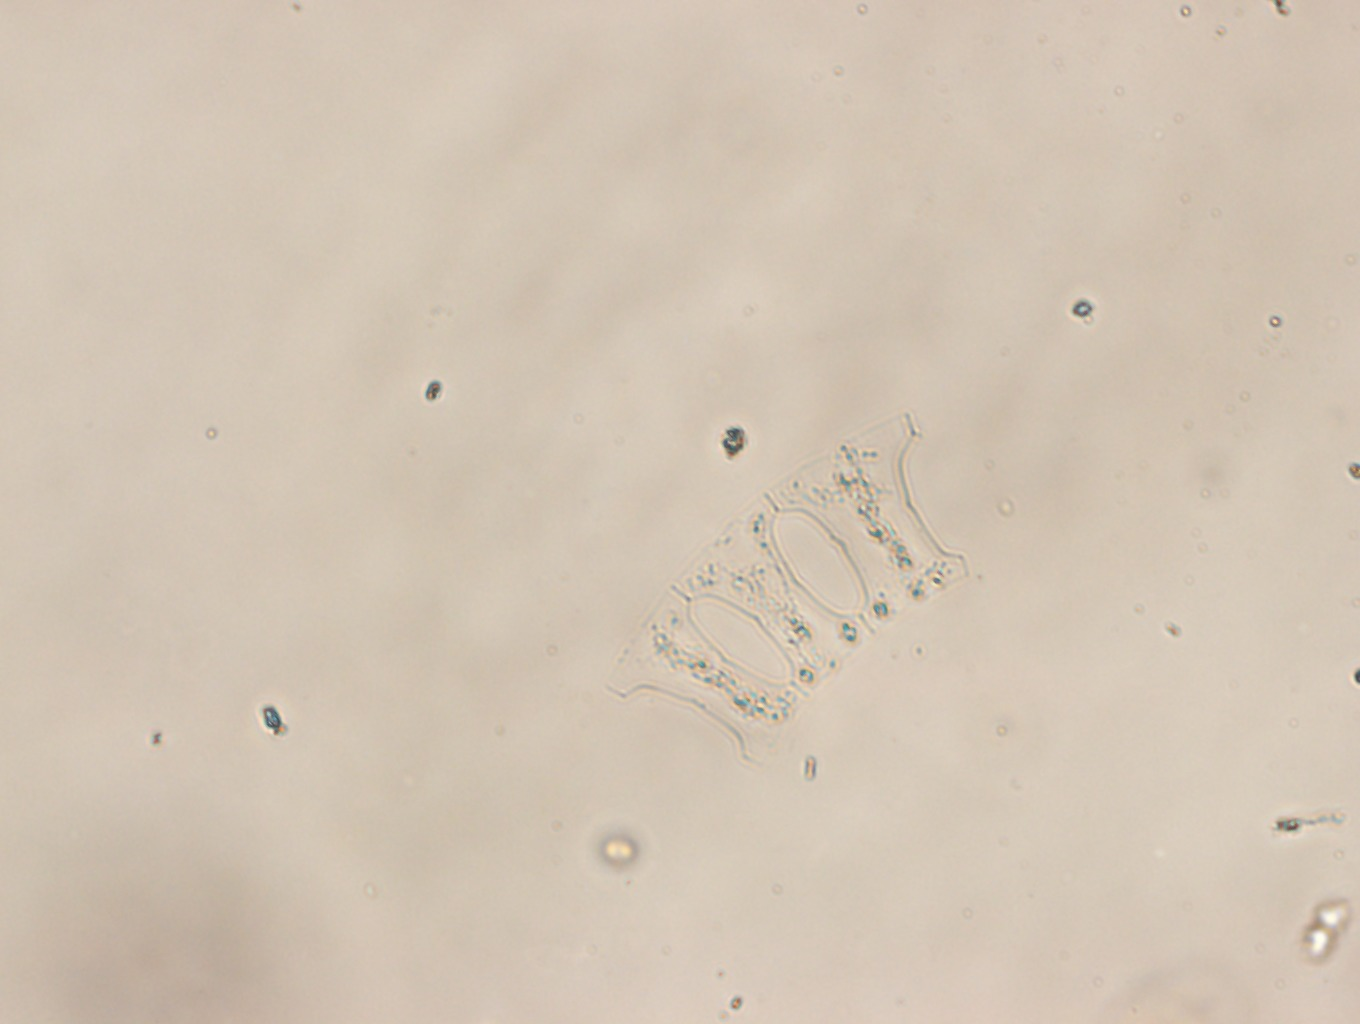eucampia: (601, 411, 974, 768)
